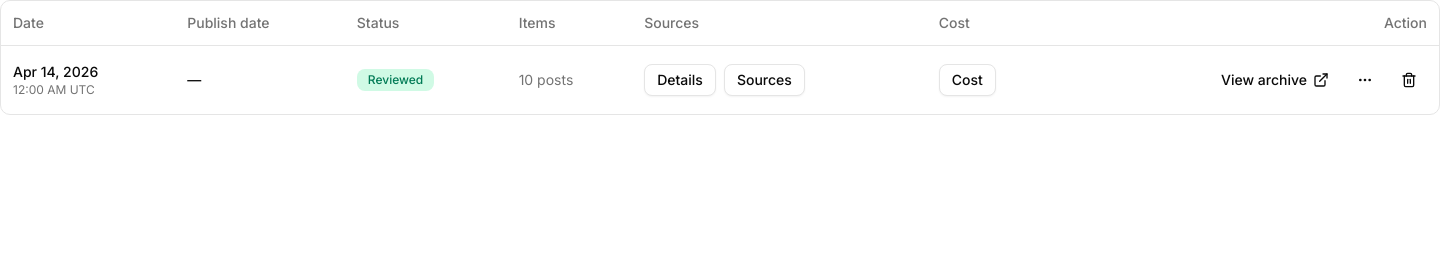
it: REQ-008: overflow menu renders with both channel items › opening ⋮ shows both LinkedIn and X items
This screenshot has width=1440, height=269.
What coordinates should you click on to do the following:
click the button named "more actions"
I would click on:
 (1365, 80)
Its box is [1347,62,1383,98].
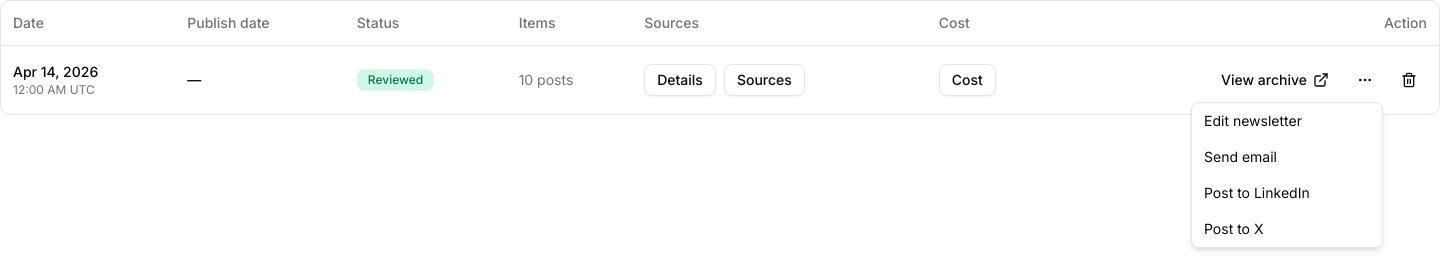
Expected: the menu item "Post to LinkedIn" is shown, [1192,175,1382,211]
Expected: the menu item "Post to X" is shown, [1192,211,1382,247]
